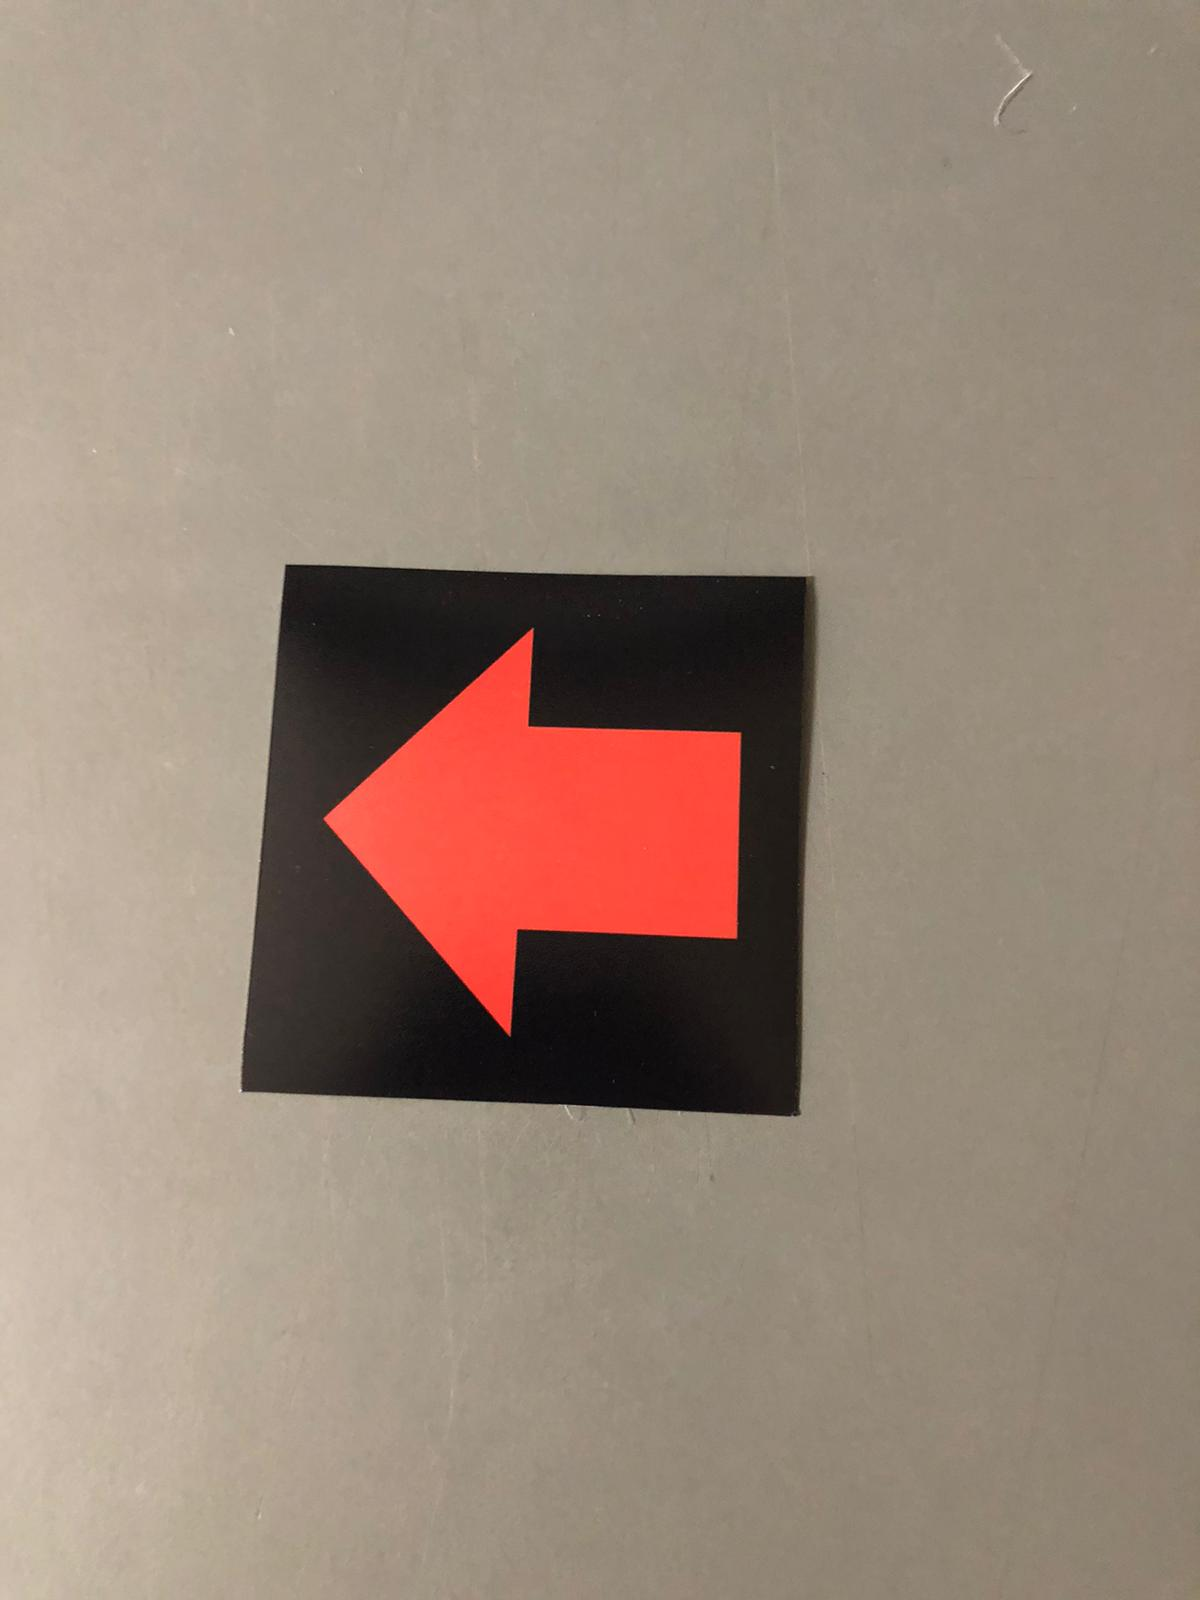Left Arrow: (272, 593, 779, 1099)
